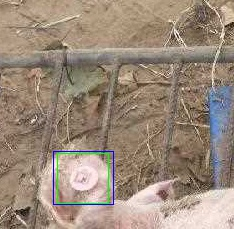text: (57, 153, 108, 203)
